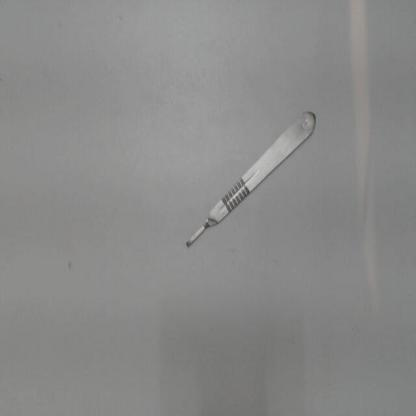No.3 BP Handle: (176, 102, 326, 259)
